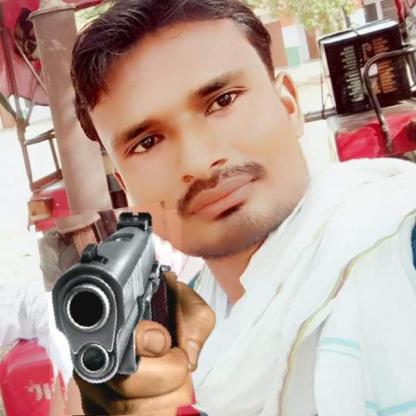handgun: (42, 205, 188, 416)
